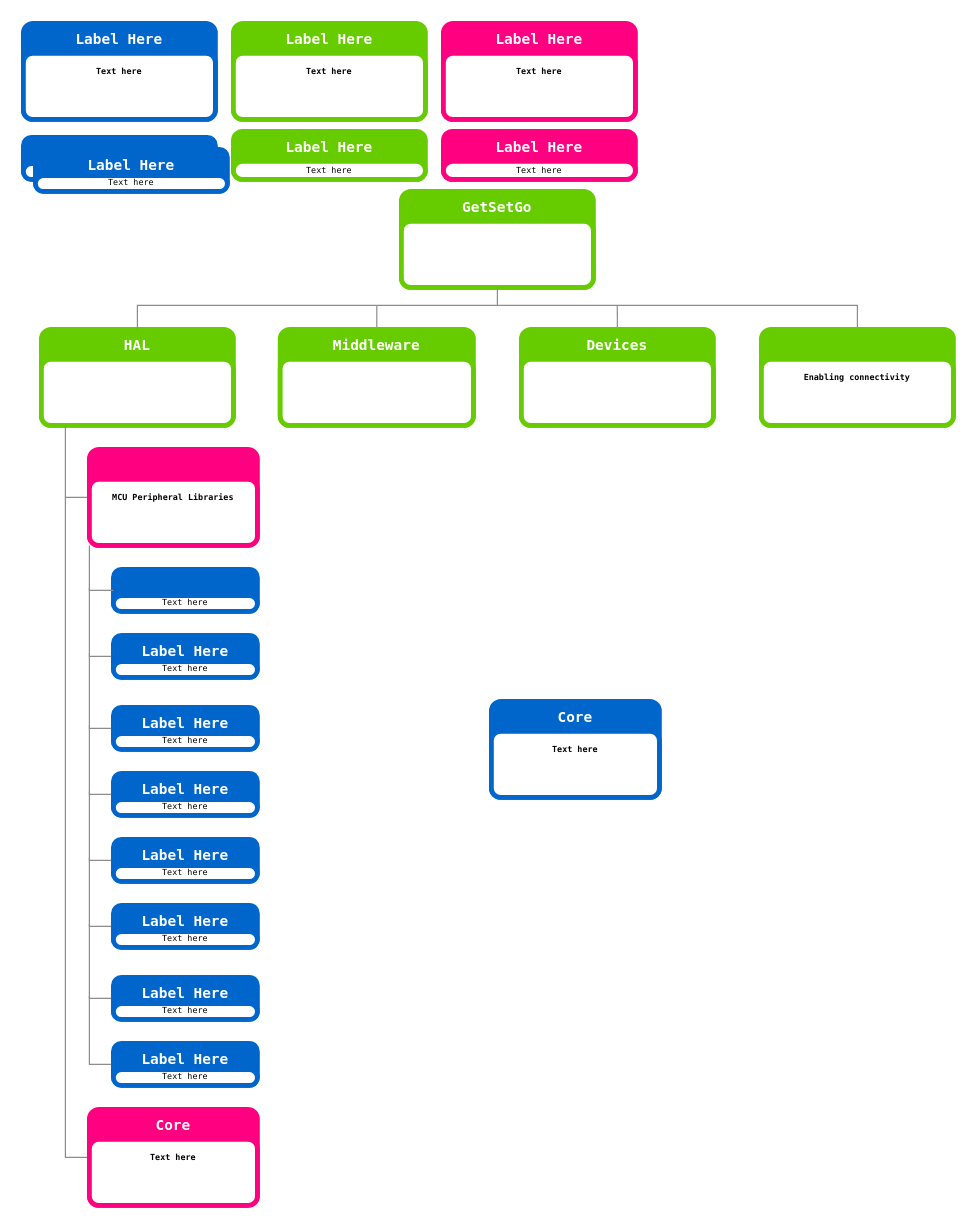
Some shapes in this 976 by 1228 pixel diagram are drawn without their labels. The shapes that lost their labels are listed below. From the top down, each one's box as (x1, y1, x2, y2) in pixels, then its label:
(398, 218, 595, 289): Embedded Software Development framework
(38, 356, 235, 427): MCU and vendor abstraction libraries
(277, 356, 475, 427): Data and flow management lbraries
(518, 356, 715, 427): External hardware libraries
(758, 326, 955, 427): Communication
(86, 446, 259, 547): Drivers
(110, 566, 259, 613): GPIO.h
